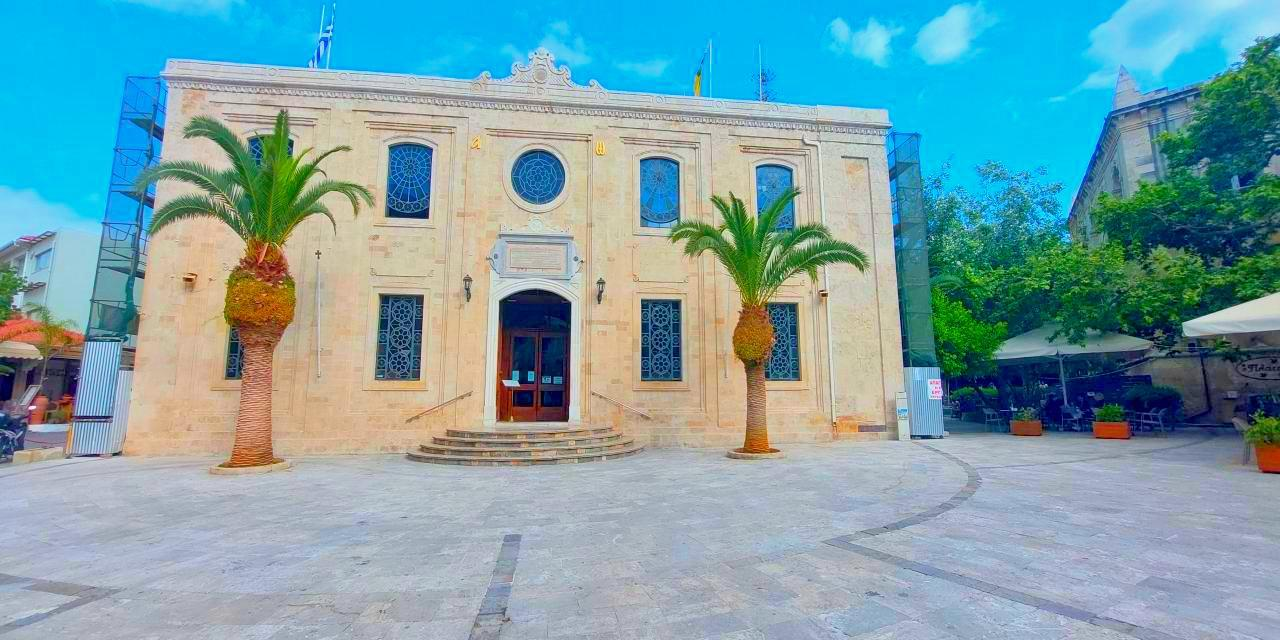Agios Titos: (125, 69, 909, 442)
